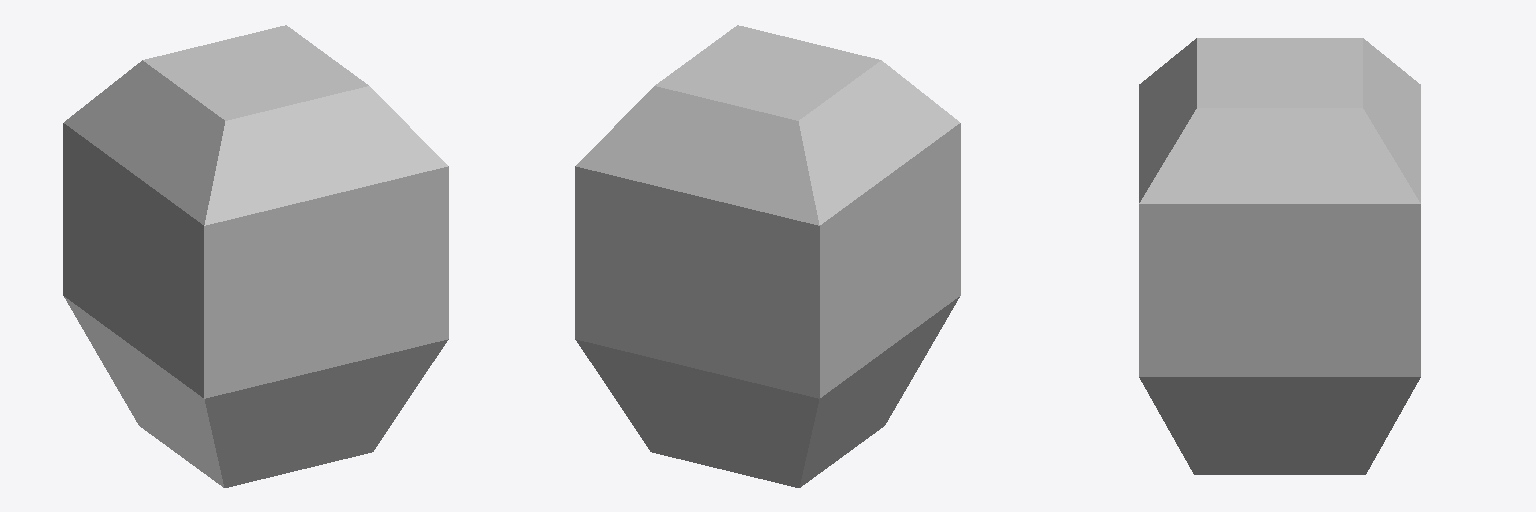
File: something_else.obj
3 views of the same model, side by side, from view 1: azimuth 30°, elevation 25°; view 2: azimuth 150°, elevation 25°; view 3: azimuth 270°, elevation 25° (orthographic).
Parts seen in each view (by area): view 1: Cube; view 2: Cube; view 3: Cube.
Part boxes in pixels (x1,y1,x2,y2): Cube: (63, 25, 448, 487); Cube: (575, 25, 960, 487); Cube: (1139, 38, 1420, 474).
Bounding box in the file's own units: 3.29 × 4.71 × 3.29.